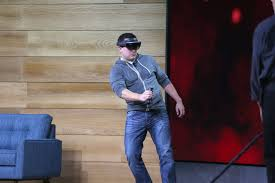hololens: (113, 39, 142, 52)
